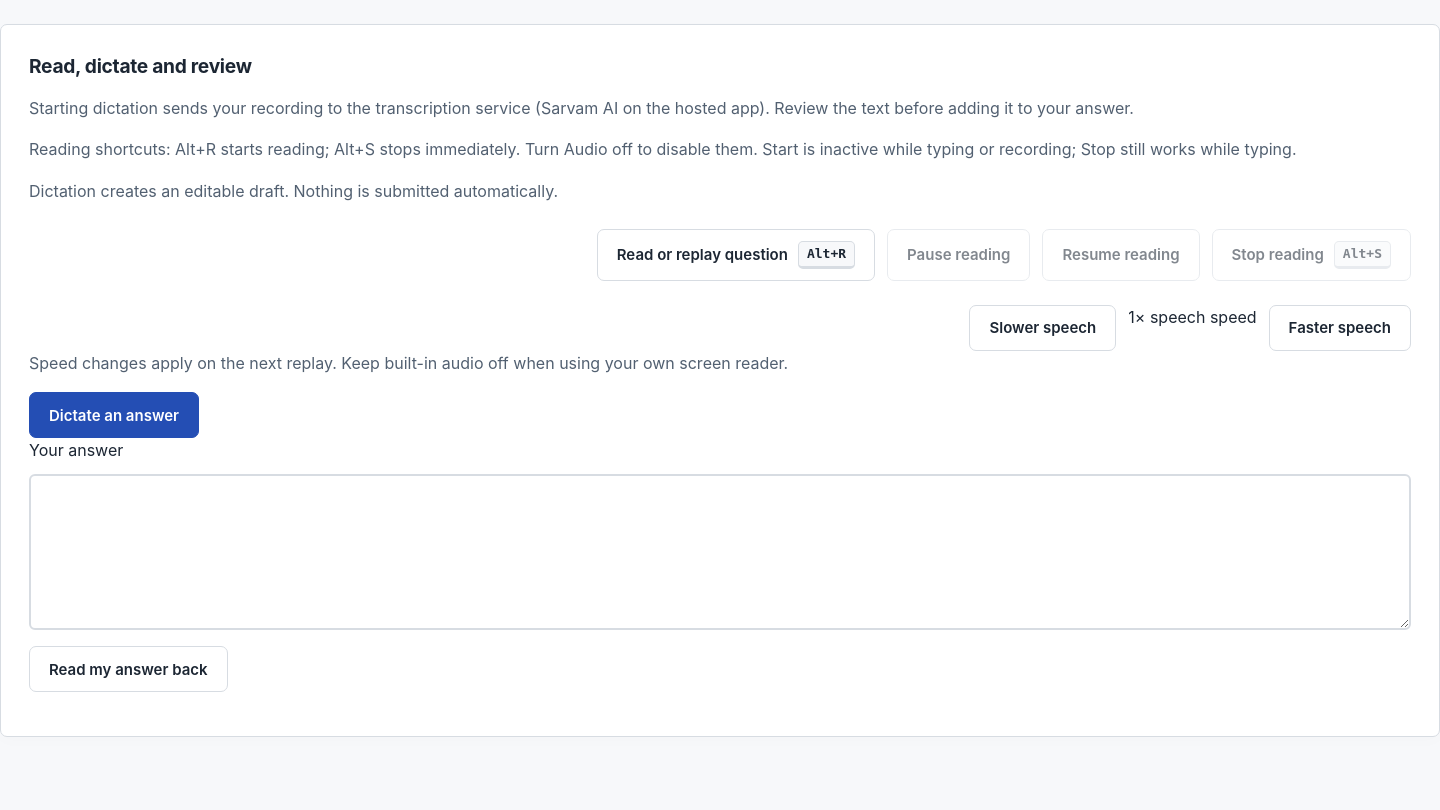
it: audio controls › stops microphone tracks on unmount
The image size is (1440, 810).
Click the button "Dictate an answer" at [114, 415], box [29,392,199,438]
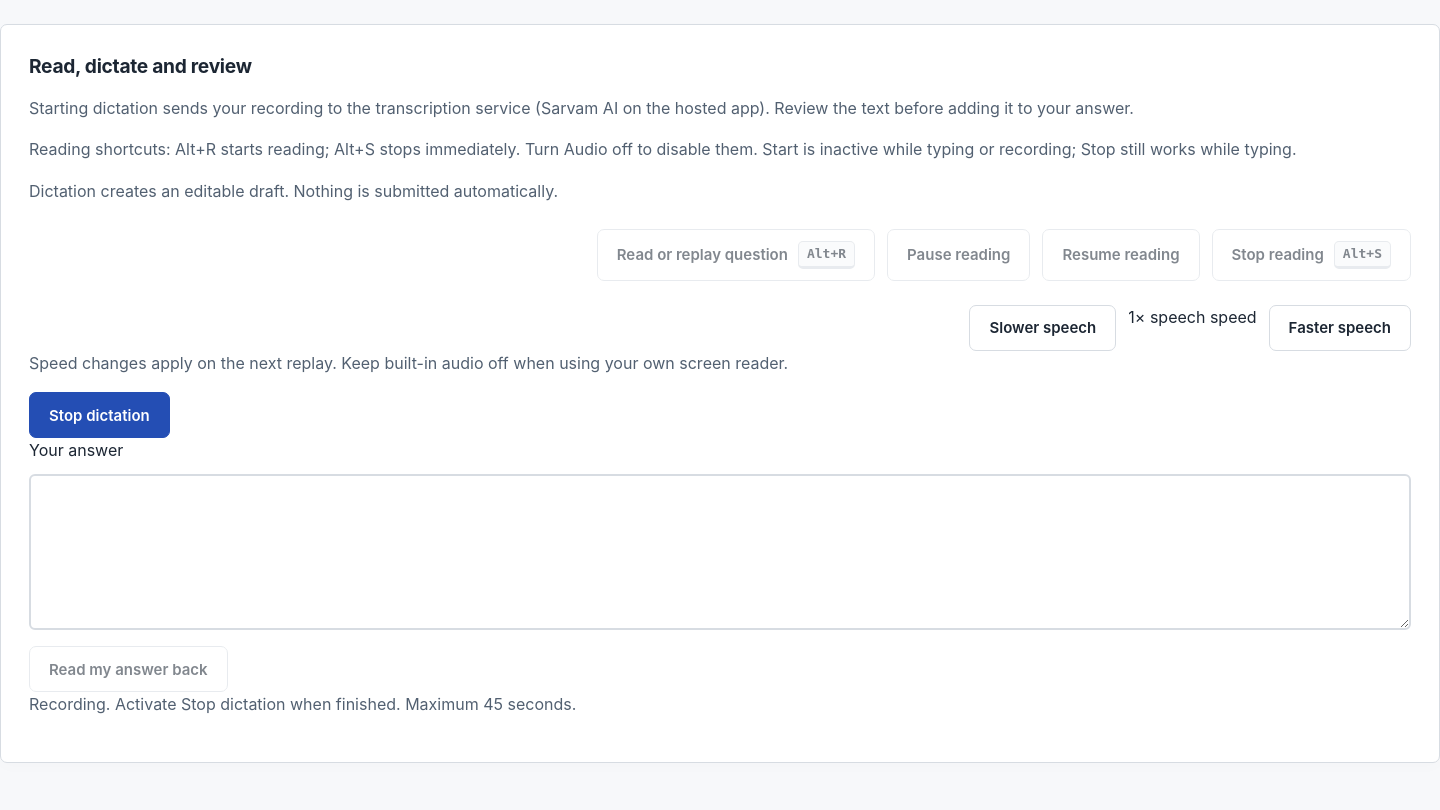
Result: the button "Stop dictation" is shown at [29,392,170,438]
